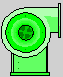blower: (1, 1, 61, 77)
